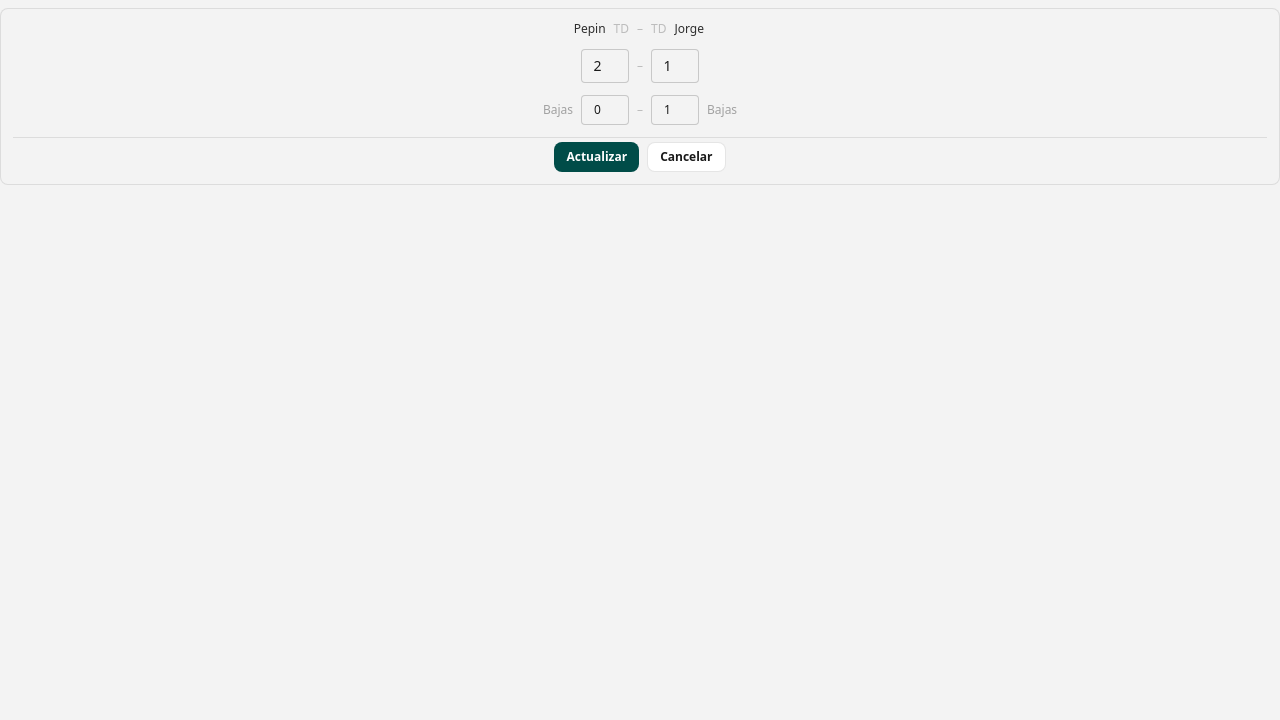
Test: MatchResultForm › al enviar un partido completado → muestra el modal de confirmación
Click the button "Actualizar" at (597, 157), box top-left (554, 142), bottom-right (639, 172)
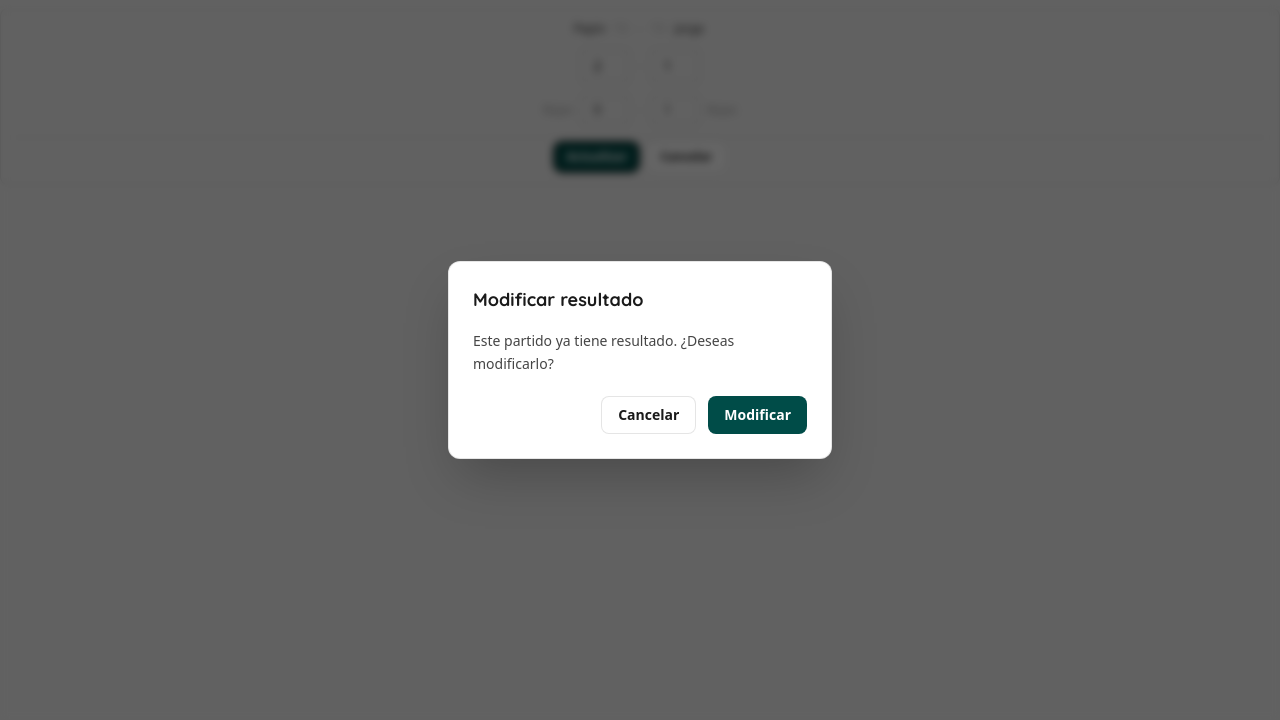
Expected: the text "¿Deseas modificarlo?" is shown, top-left (473, 331), bottom-right (734, 373)
